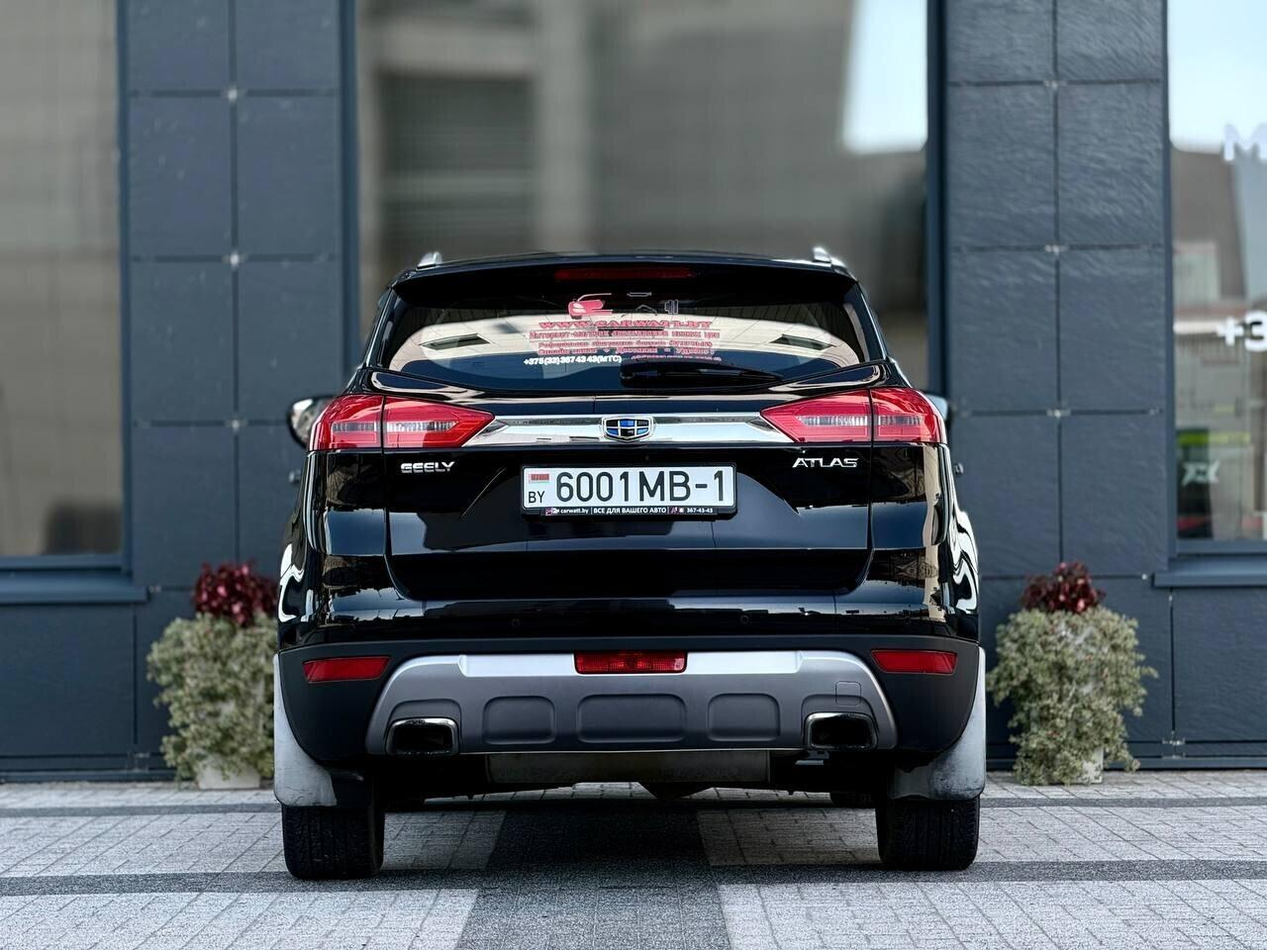Atlas_2016-2023: (267, 244, 990, 878)
